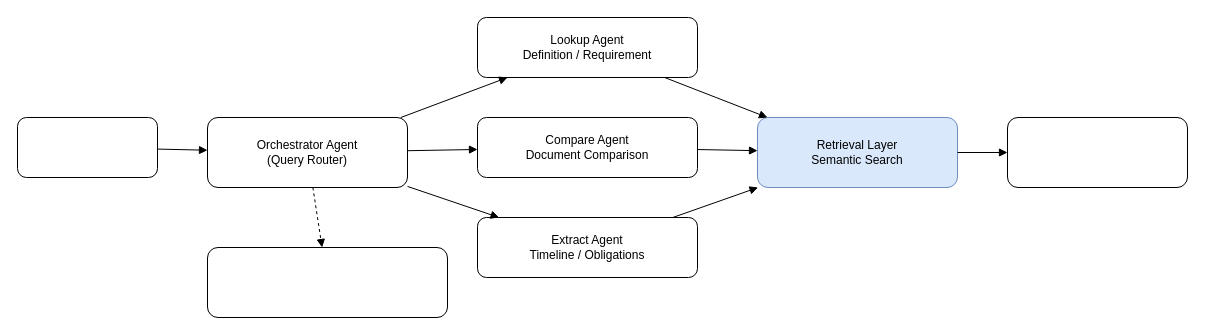
This 1205x335 diagram has some shape labels left out. The centre of each missing label's shape, as x and y in pixels:
"Document Store & Ingestion Regulatory Docs + Vector DB" goes at [327,282].
"User / API" goes at [87,147].
"User Output Answer + Sources" goes at [1097,152].
